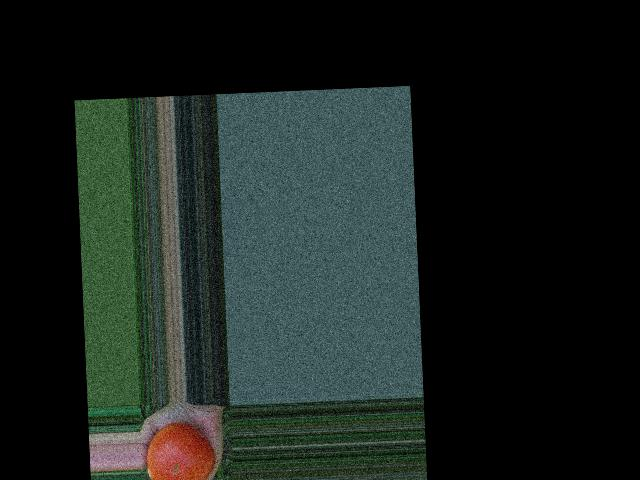tomato: (145, 421, 217, 480)
